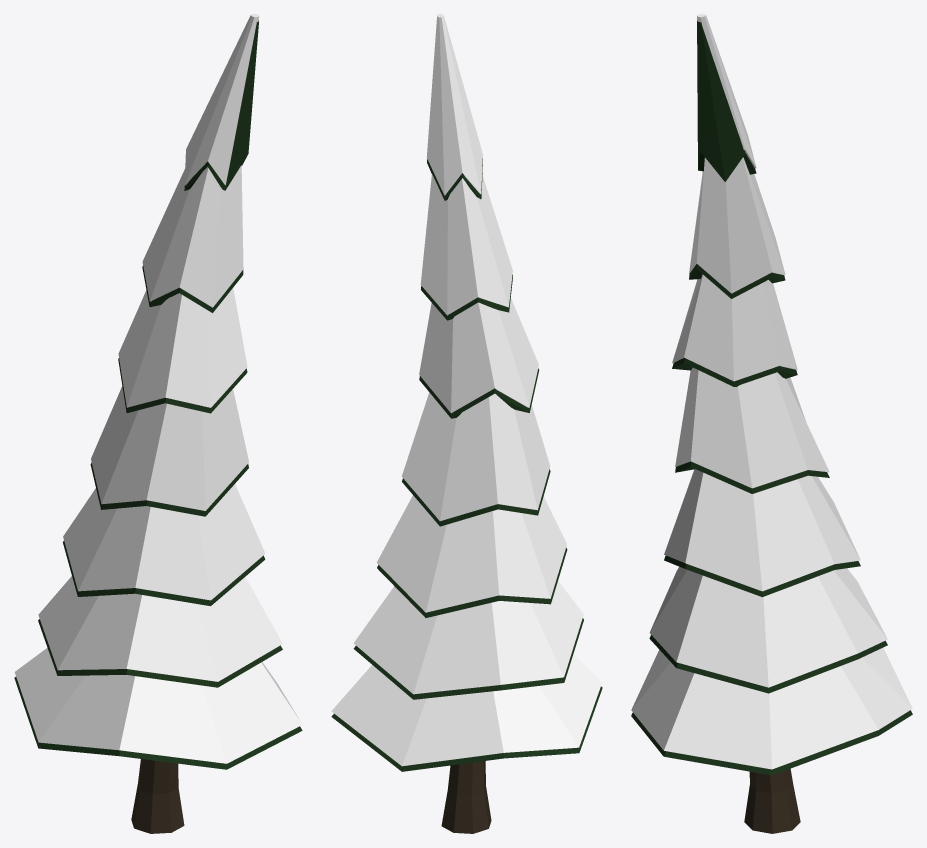
Rendered from Tree_6.obj.
3 views of the same model, side by side, from view 1: azimuth 30°, elevation 25°; view 2: azimuth 150°, elevation 25°; view 3: azimuth 270°, elevation 25° (orthographic). The views are drawn at different scales.
Visible parts, largest first — view 1: Cylinder.000_Cylinder.004; view 2: Cylinder.000_Cylinder.004; view 3: Cylinder.000_Cylinder.004.
Part boxes in pixels (box(x1,y1,x2,y2)): Cylinder.000_Cylinder.004: box(14, 14, 302, 833); Cylinder.000_Cylinder.004: box(331, 14, 602, 833); Cylinder.000_Cylinder.004: box(631, 14, 912, 833).
Size of the model in its own units: 2.39 by 7.79 by 2.38.
